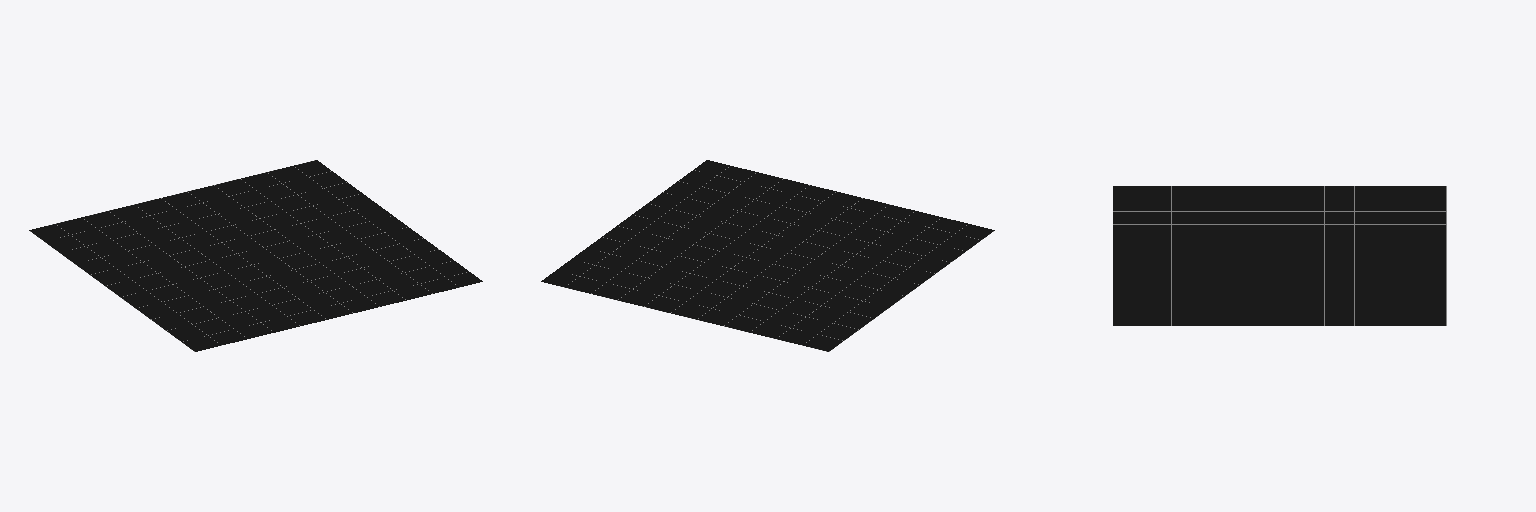
3 renders of one model, left to right at view 1: azimuth 30°, elevation 25°; view 2: azimuth 150°, elevation 25°; view 3: azimuth 270°, elevation 25°, orthographic.
Visible parts, largest first — view 1: 平面; view 2: 平面; view 3: 平面.
Boxes of the visible parts, <box> form: 平面: <box>29,160,482,351</box>; 平面: <box>541,160,994,351</box>; 平面: <box>1113,186,1446,325</box>.
Bounding box in the file's own units: 100 × 0 × 100.
Materials: 1 (1 with a texture image).